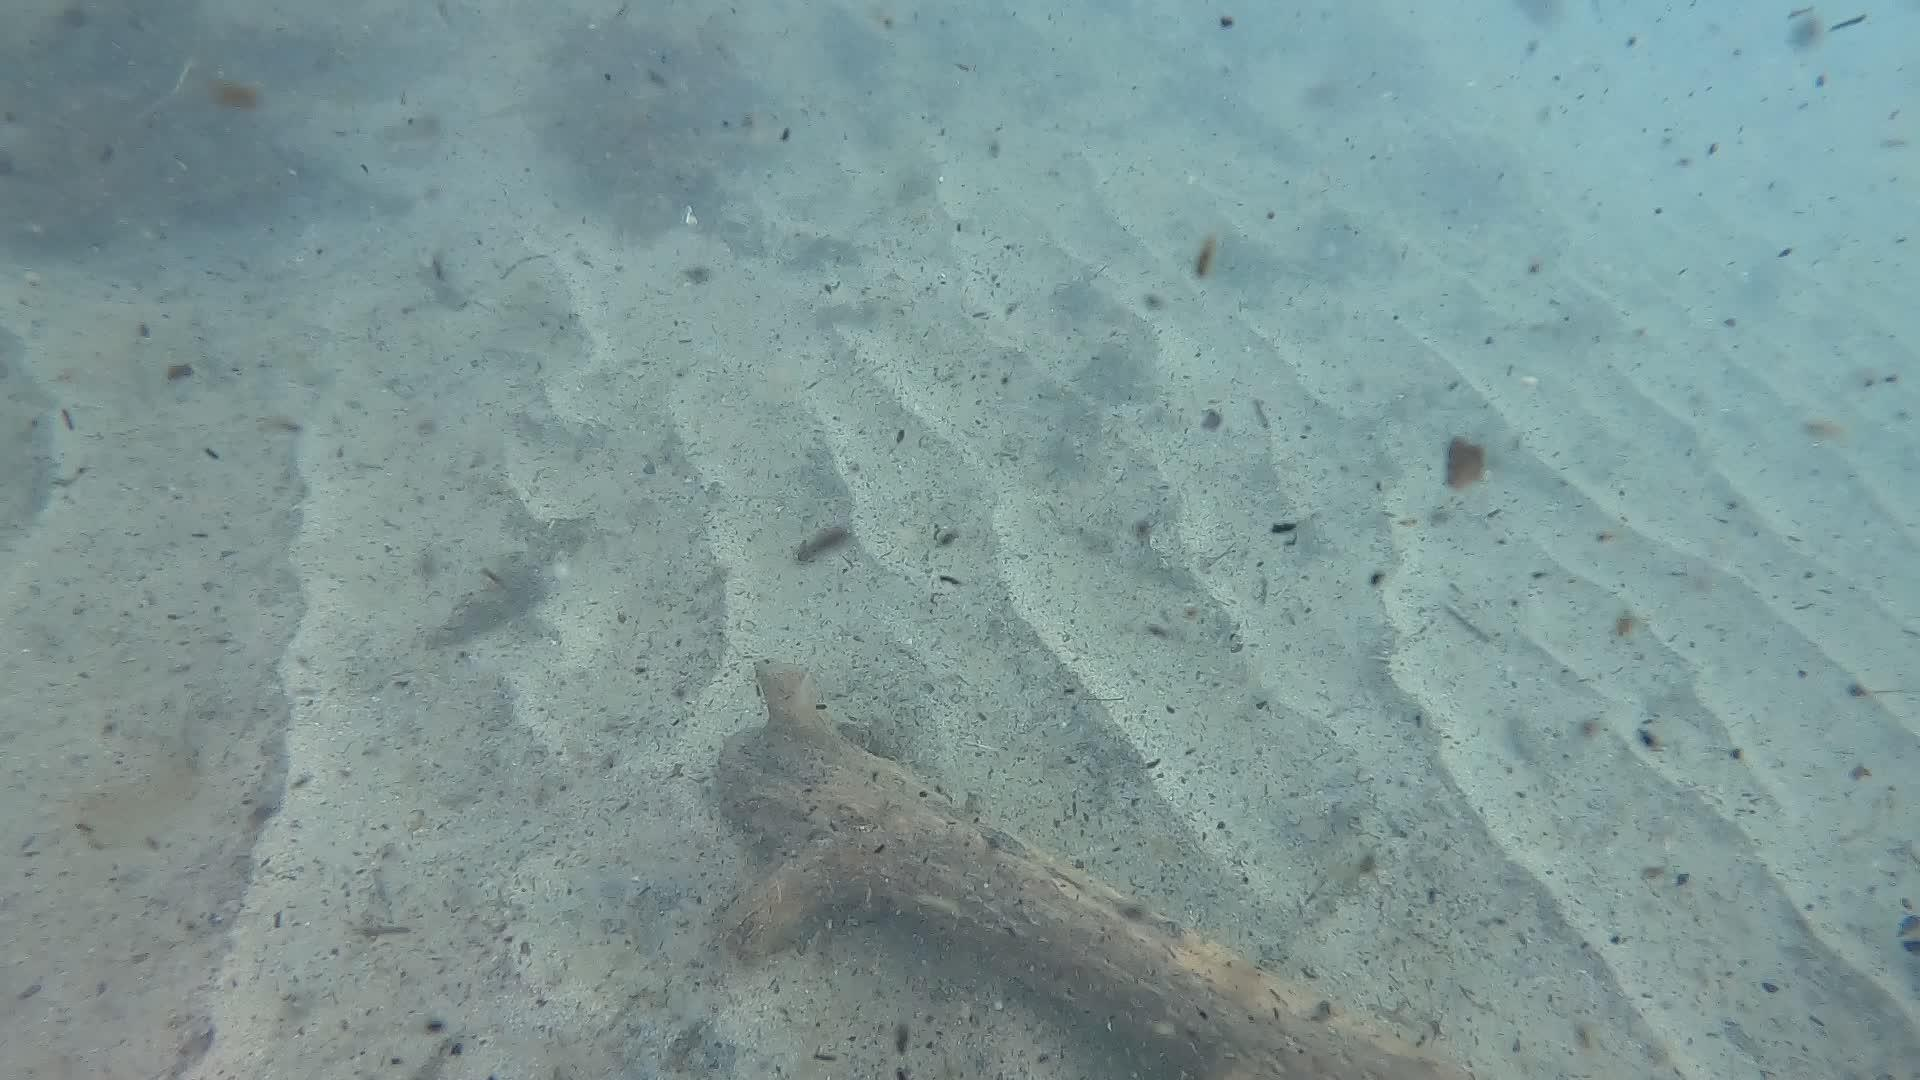wood: (715, 655, 1513, 1080)
